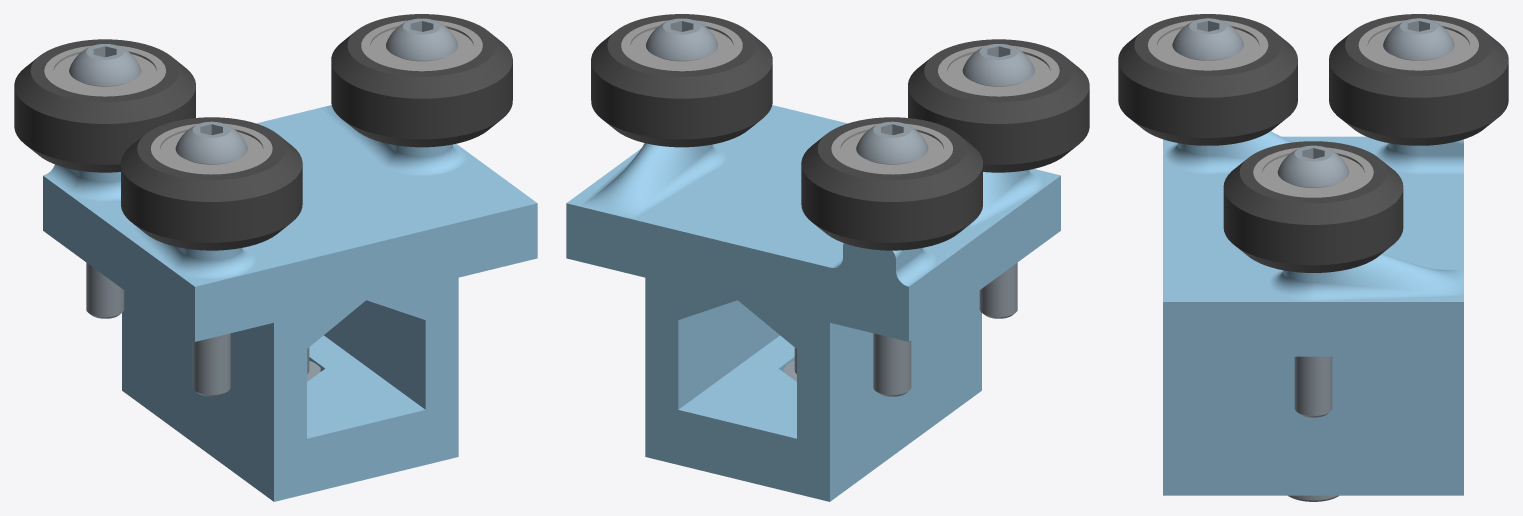
The model's file is penholder.obj.
3 renders of one model, left to right at view 1: azimuth 30°, elevation 25°; view 2: azimuth 150°, elevation 25°; view 3: azimuth 270°, elevation 25°, orthographic.
Visible parts, largest first — view 1: mesh100, mesh141, mesh53, mesh90, mesh52, mesh102, mesh51, mesh99, mesh107, mesh73, mesh63, mesh65 (+8 smaller); view 2: mesh129, mesh53, mesh141, mesh90, mesh52, mesh102, mesh51, mesh99, mesh107, mesh73, mesh125, mesh63 (+8 smaller); view 3: mesh91, mesh53, mesh141, mesh101, mesh52, mesh51, mesh73, mesh63, mesh65, mesh125, mesh54, mesh70 (+10 smaller).
Part boxes in pixels (bbox=[...]): mesh100: bbox=[195, 203, 537, 501]; mesh141: bbox=[43, 108, 537, 286]; mesh53: bbox=[14, 60, 512, 242]; mesh90: bbox=[122, 290, 273, 501]; mesh52: bbox=[14, 32, 512, 201]; mesh102: bbox=[43, 176, 194, 341]; mesh51: bbox=[30, 14, 496, 180]; mesh99: bbox=[307, 335, 425, 438]; mesh107: bbox=[324, 300, 425, 409]; mesh73: bbox=[69, 21, 457, 163]; mesh63: bbox=[44, 20, 482, 174]; mesh65: bbox=[53, 29, 473, 170]; mesh129: bbox=[566, 203, 908, 501]; mesh53: bbox=[591, 60, 1089, 242]; mesh141: bbox=[566, 105, 1060, 286]; mesh90: bbox=[830, 290, 981, 501]; mesh52: bbox=[591, 32, 1089, 201]; mesh102: bbox=[909, 176, 1060, 341]; mesh51: bbox=[607, 14, 1073, 180]; mesh99: bbox=[678, 335, 796, 438]; mesh107: bbox=[678, 300, 779, 409]; mesh73: bbox=[646, 21, 1034, 163]; mesh125: bbox=[580, 143, 708, 219]; mesh63: bbox=[621, 20, 1059, 174]; mesh91: bbox=[1163, 356, 1463, 495]; mesh53: bbox=[1118, 62, 1508, 265]; mesh141: bbox=[1163, 136, 1463, 301]; mesh101: bbox=[1163, 302, 1463, 356]; mesh52: bbox=[1118, 33, 1508, 224]; mesh51: bbox=[1134, 14, 1492, 203]; mesh73: bbox=[1172, 21, 1454, 187]; mesh63: bbox=[1148, 20, 1478, 197]; mesh65: bbox=[1157, 28, 1469, 193]; mesh125: bbox=[1313, 254, 1463, 295]; mesh54: bbox=[1132, 120, 1494, 272]; mesh70: bbox=[1294, 356, 1332, 415].
Size of the model in its own units: 0.0639 by 0.0586 by 0.0519.
